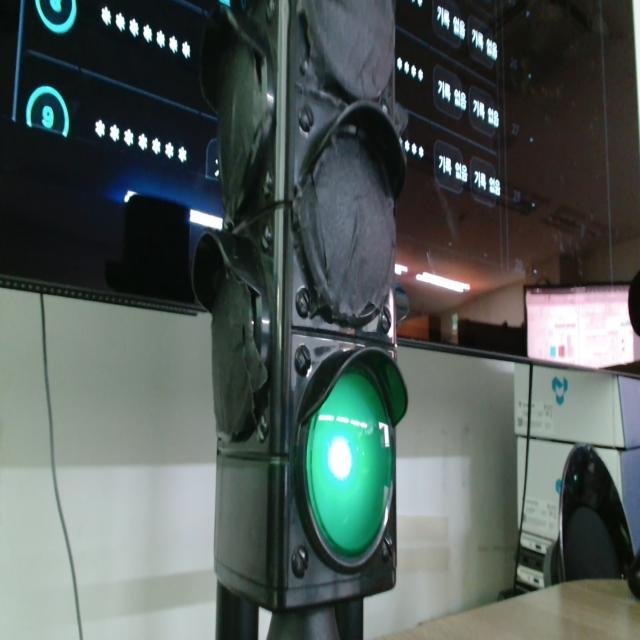green_light: (307, 367, 393, 558)
